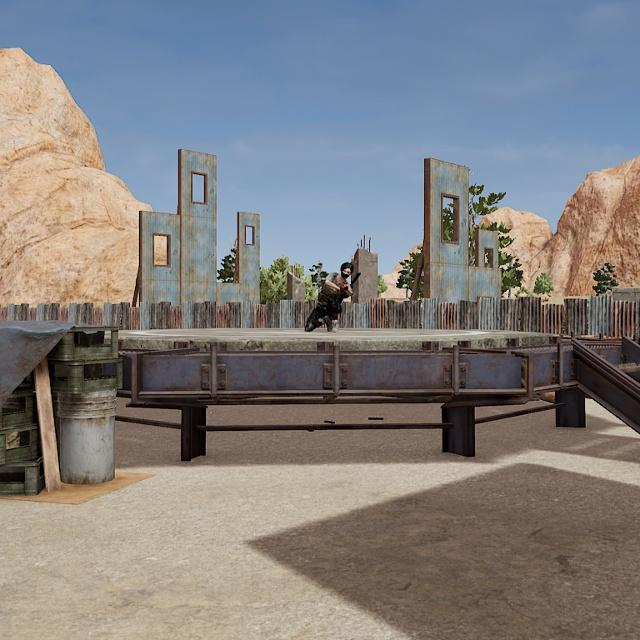head: (340, 261, 354, 280)
people: (304, 261, 358, 332)
